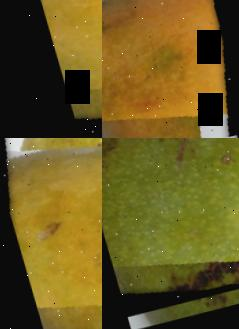PartiallyRipe: (0, 138, 102, 329), (5, 0, 102, 138)
Ripe: (102, 0, 239, 138)
Unripe: (102, 138, 239, 311)
